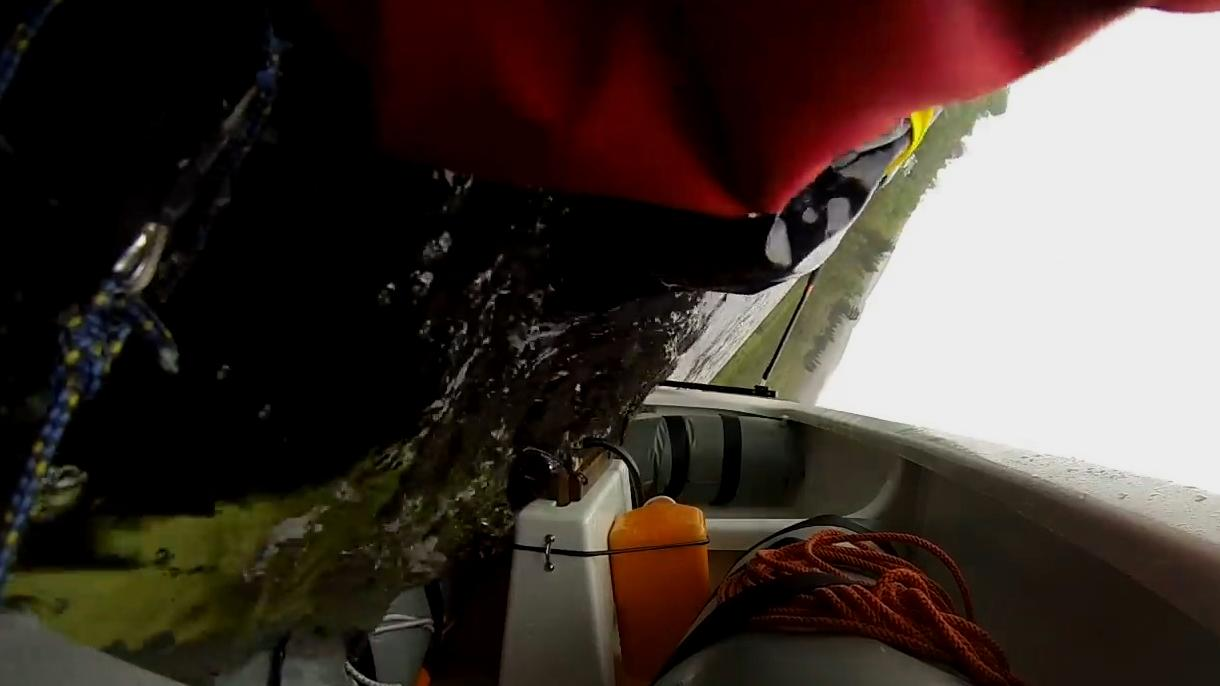boat: (0, 379, 1220, 686)
land: (710, 91, 1008, 403)
person: (303, 0, 1220, 310)
sea: (0, 0, 786, 686)
sky: (818, 9, 1220, 496)
